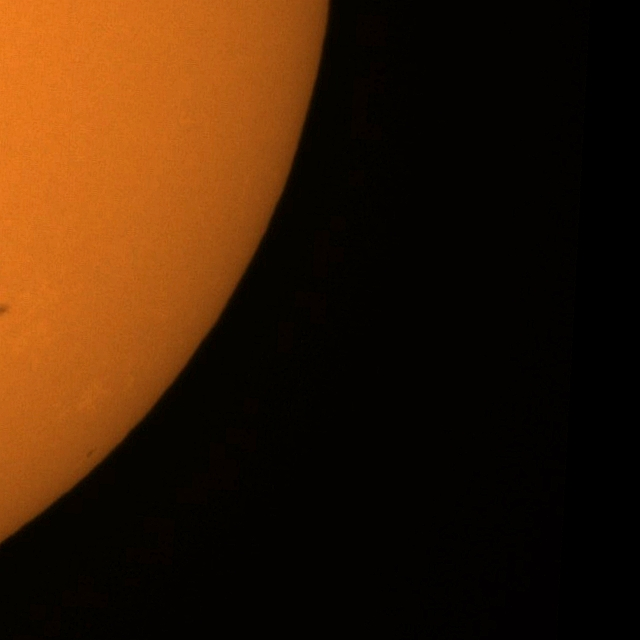sunspot: (85, 445, 97, 462)
